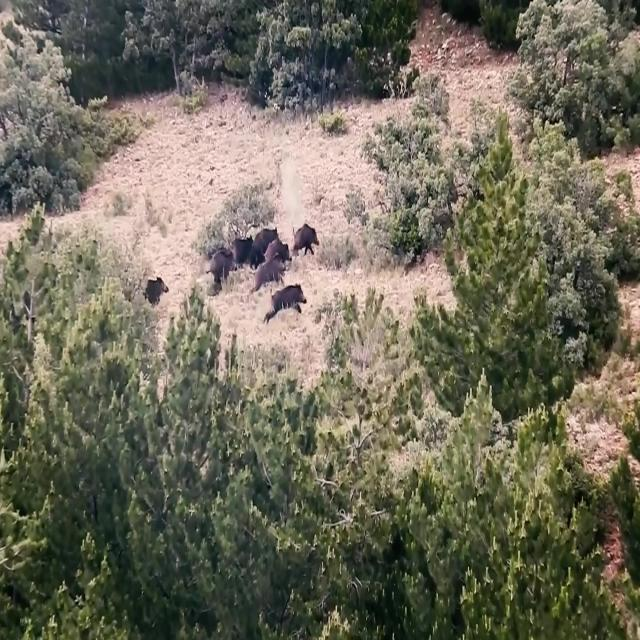pig: (264, 280, 318, 329), (290, 209, 336, 265), (208, 243, 238, 287), (145, 263, 175, 306), (255, 254, 288, 284)
